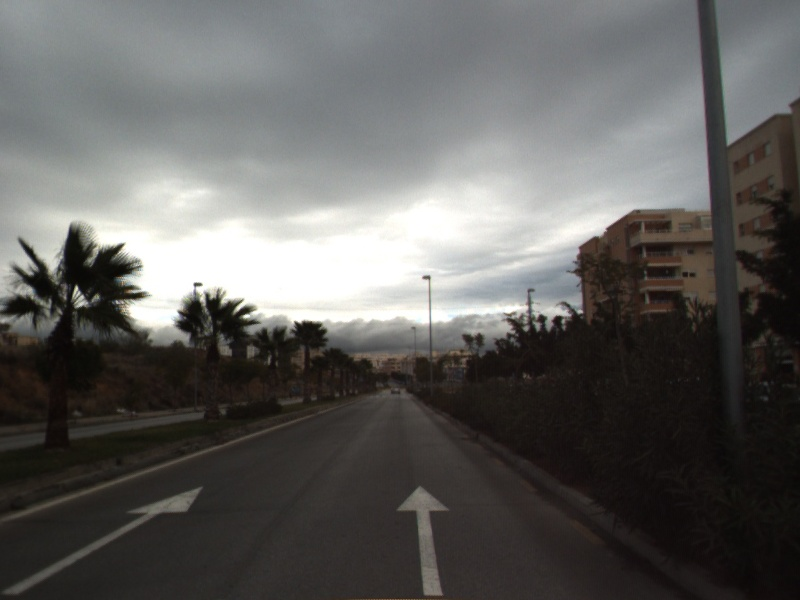STRAIGHT: (1, 484, 205, 596), (394, 483, 452, 597)
